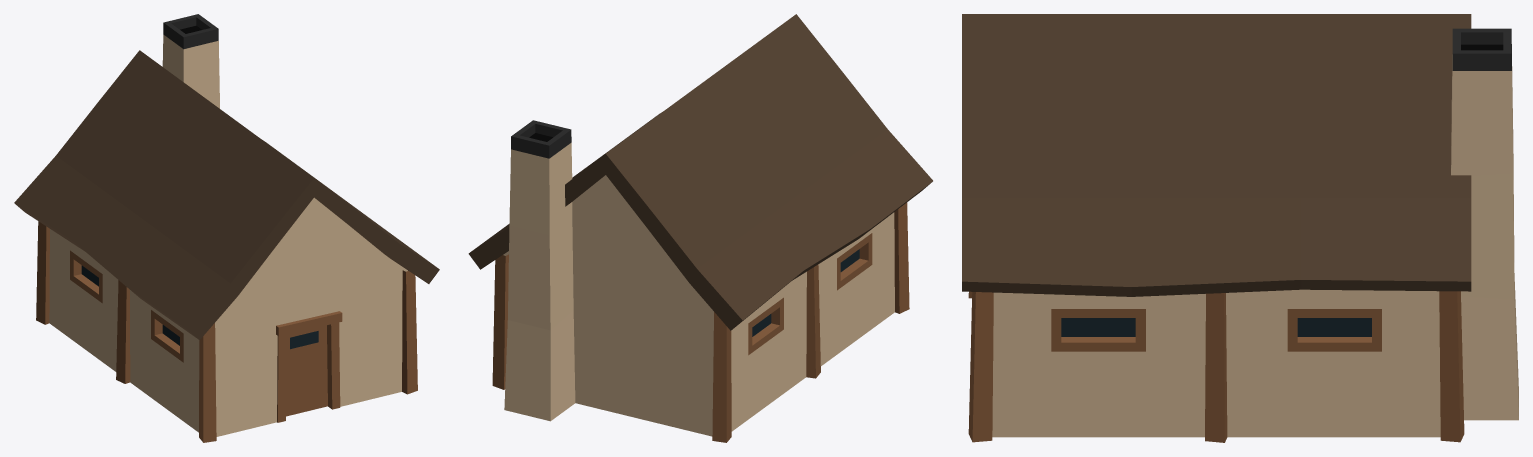
File: building__d.glb
3 renders of one model, left to right at view 1: azimuth 30°, elevation 25°; view 2: azimuth 150°, elevation 25°; view 3: azimuth 270°, elevation 25°, orthographic. The views are drawn at different scales.
Parts seen in each view (by area): view 1: house-medieval_small; view 2: house-medieval_small; view 3: house-medieval_small.
Boxes of the visible parts, bbox=[...] form: house-medieval_small: bbox=[14, 14, 439, 442]; house-medieval_small: bbox=[468, 14, 932, 442]; house-medieval_small: bbox=[962, 14, 1518, 442].
Bounding box in the file's own units: 5.44 × 5.11 × 7.07.
1 material, 1 textured.
